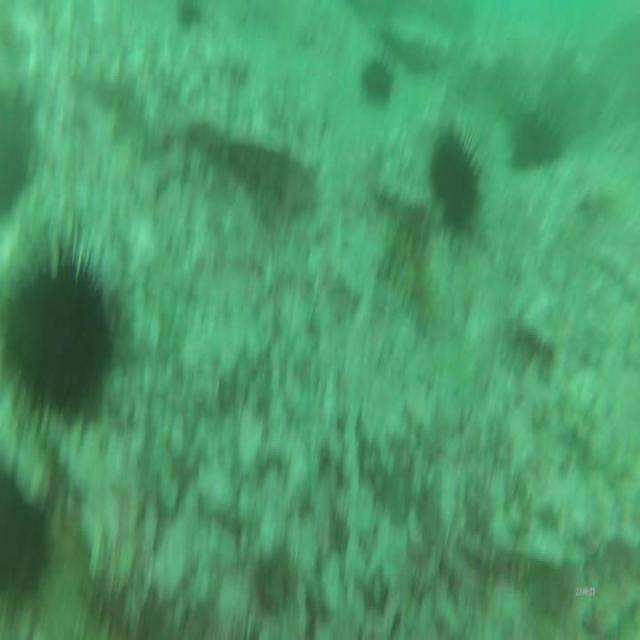echinus: (0, 219, 124, 445), (1, 454, 53, 621), (429, 118, 486, 246), (1, 93, 39, 218), (511, 103, 568, 172), (359, 49, 398, 103)
holothurian: (384, 221, 434, 338)
